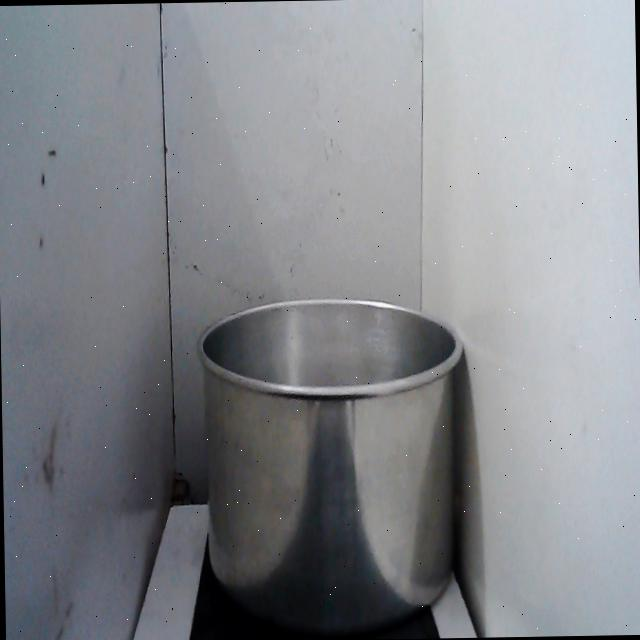metal: (187, 283, 477, 640)
